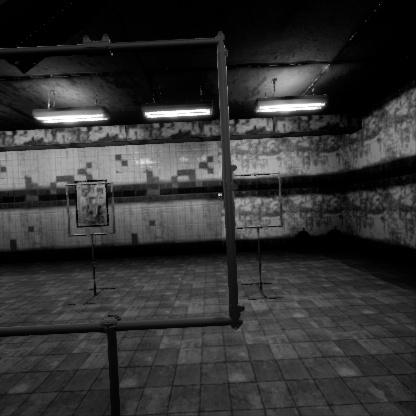gate: (231, 186, 287, 244), (66, 178, 120, 234)
